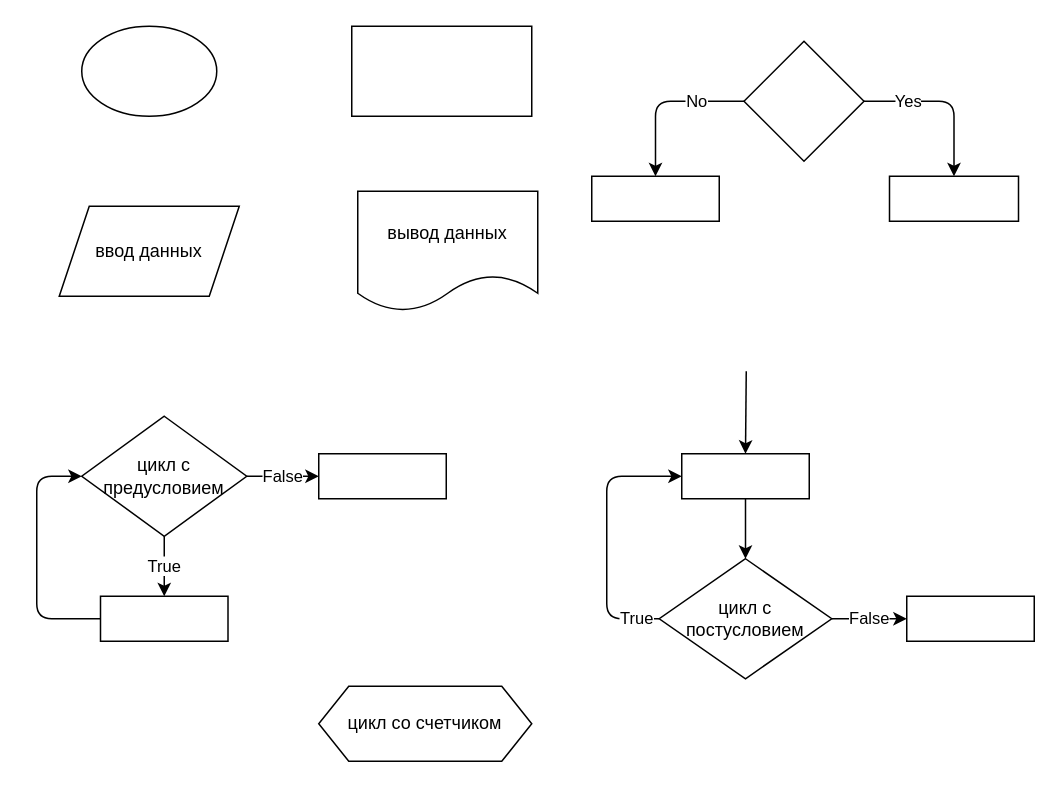
This 1061x788 diagram has some shape labels left out. The box of each missing label's shape, as (x1, y1, x2, y2) in pixels:
Start End: (80, 25, 217, 116)
ветвление: (742, 40, 864, 161)
действие: (350, 25, 532, 116)
